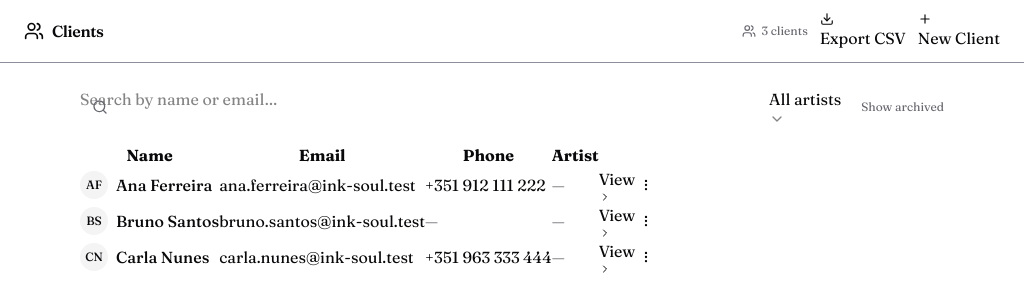
Test: Clients feature › search input filters clients by name
In the field with placeholder "Search by name or email…": (186, 99) [80,87,291,111], type "Ana"
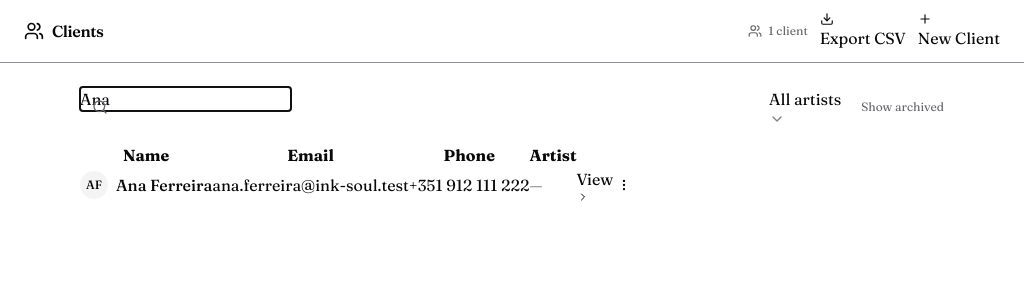
Result: the number of rows is 2 at [80,143,631,167]; [80,167,631,203]
Result: the text "Ana Ferreira" is shown 2 times
Result: the text "Bruno Santos" is gone
